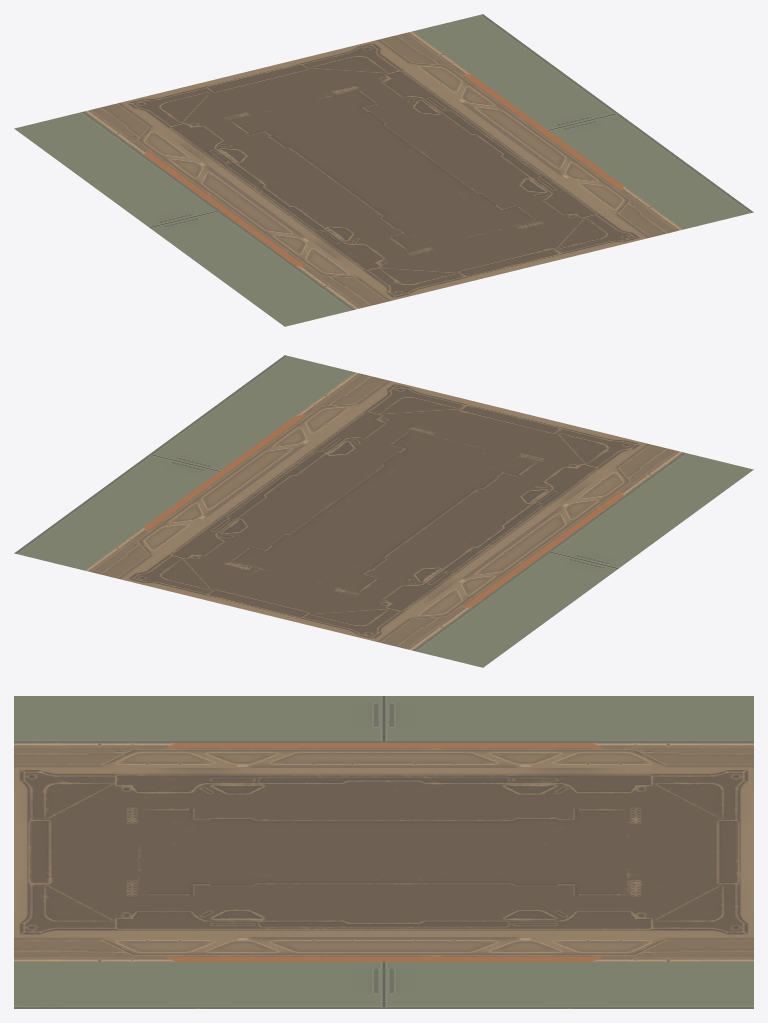
The model's file is LoadingDeck.gltf.
3 views of the same model, one above another, from view 1: azimuth 30°, elevation 25°; view 2: azimuth 150°, elevation 25°; view 3: azimuth 270°, elevation 25° (orthographic). The views are drawn at different scales.
Parts seen in each view (by area): view 1: Platform_CenterPlate; view 2: Platform_CenterPlate; view 3: Platform_CenterPlate.
Boxes of the visible parts, x1,y1,x2,y2 form: Platform_CenterPlate: [14, 14, 753, 326]; Platform_CenterPlate: [14, 355, 753, 667]; Platform_CenterPlate: [14, 696, 753, 1008].
Size of the model in its own units: 4 by 2.84e-14 by 4.
2 materials, 2 textured.
